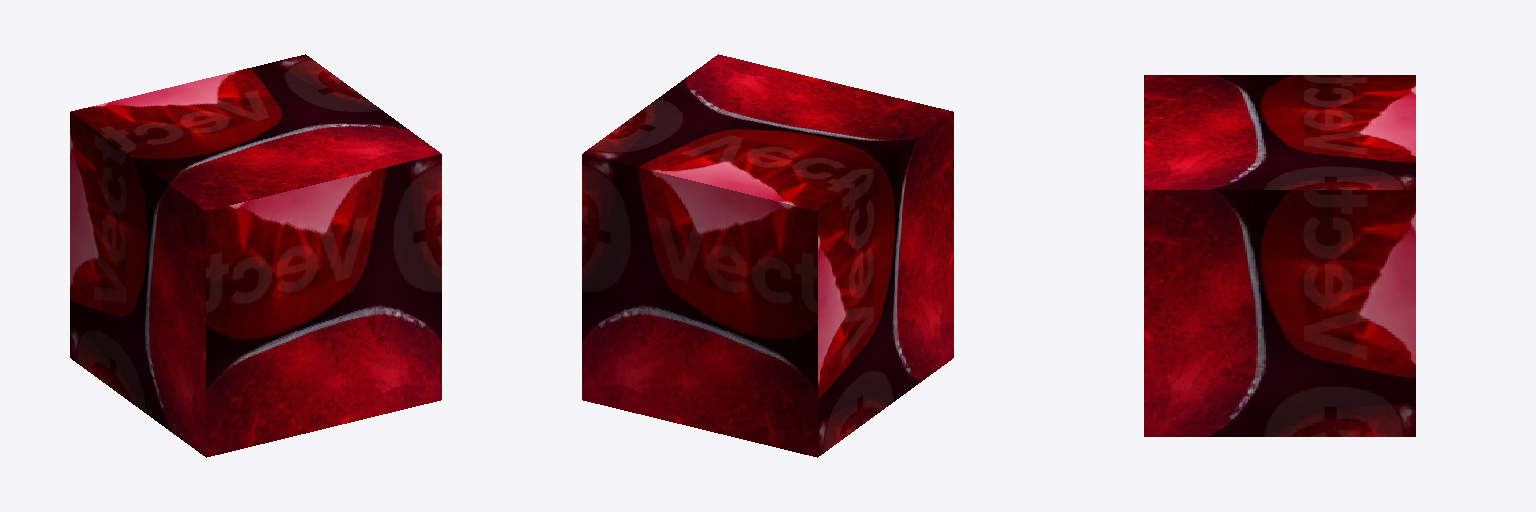
The picture shows the model from 3 angles: view 1: azimuth 30°, elevation 25°; view 2: azimuth 150°, elevation 25°; view 3: azimuth 270°, elevation 25°; orthographic projection.
Visible parts, largest first — view 1: Moonstone; view 2: Moonstone; view 3: Moonstone.
Boxes of the visible parts, x1,y1,x2,y2 form: Moonstone: [70, 54, 441, 457]; Moonstone: [582, 54, 953, 457]; Moonstone: [1144, 75, 1415, 436].
Bounding box in the file's own units: 2 × 2 × 2.
Materials: 1 (1 with a texture image).